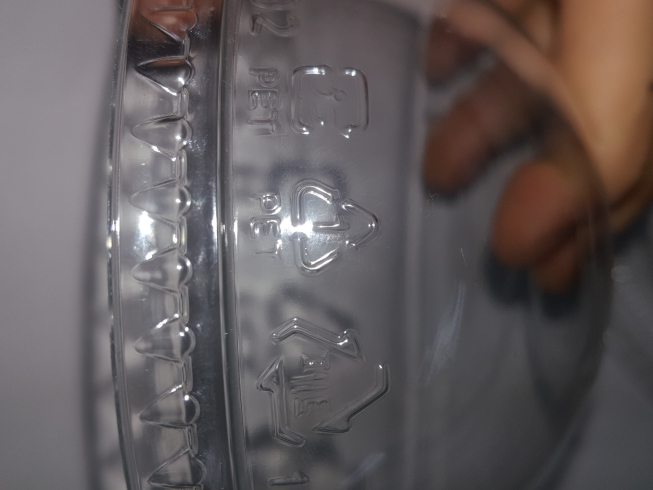recycle: (245, 163, 384, 285)
